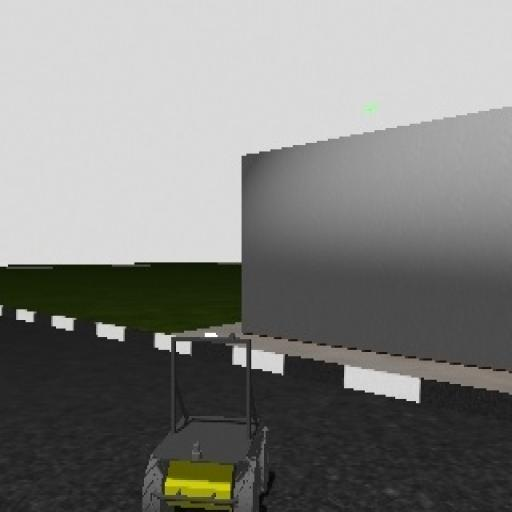huskya200: (140, 329, 274, 512)
